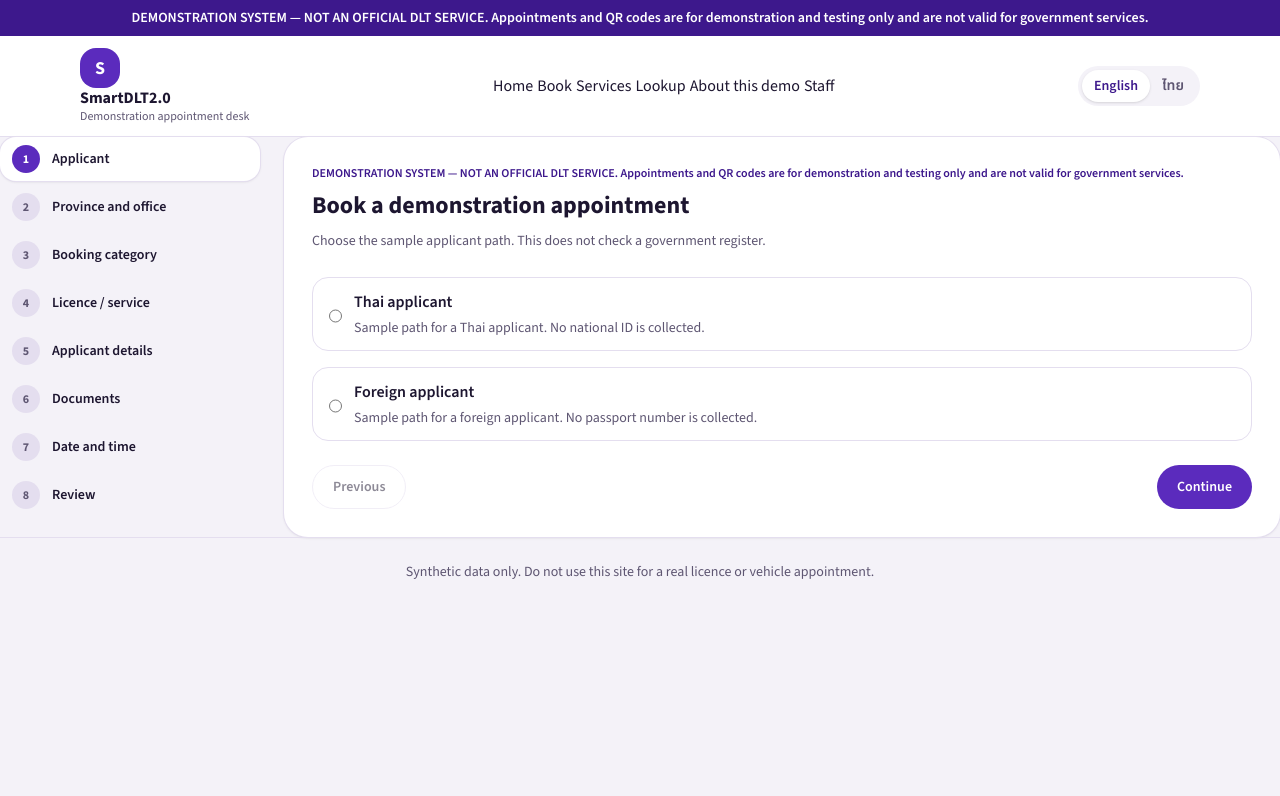
Test case: wizard navigation › hides the permit category at an office that is not eligible
Click the radio button labelled "Thai applicant": point(336, 316) [329,294,342,338]
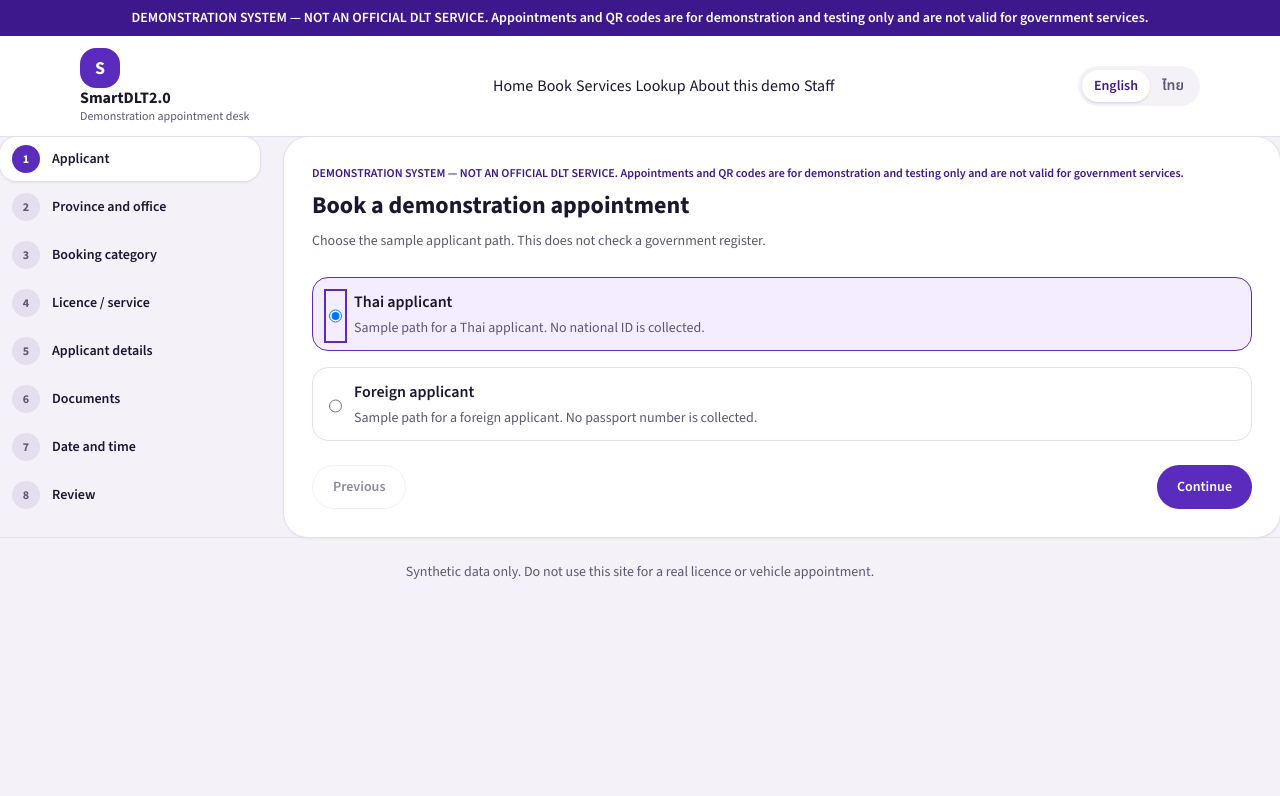
Click the button "Continue": point(1204, 487) [1157,465,1252,509]
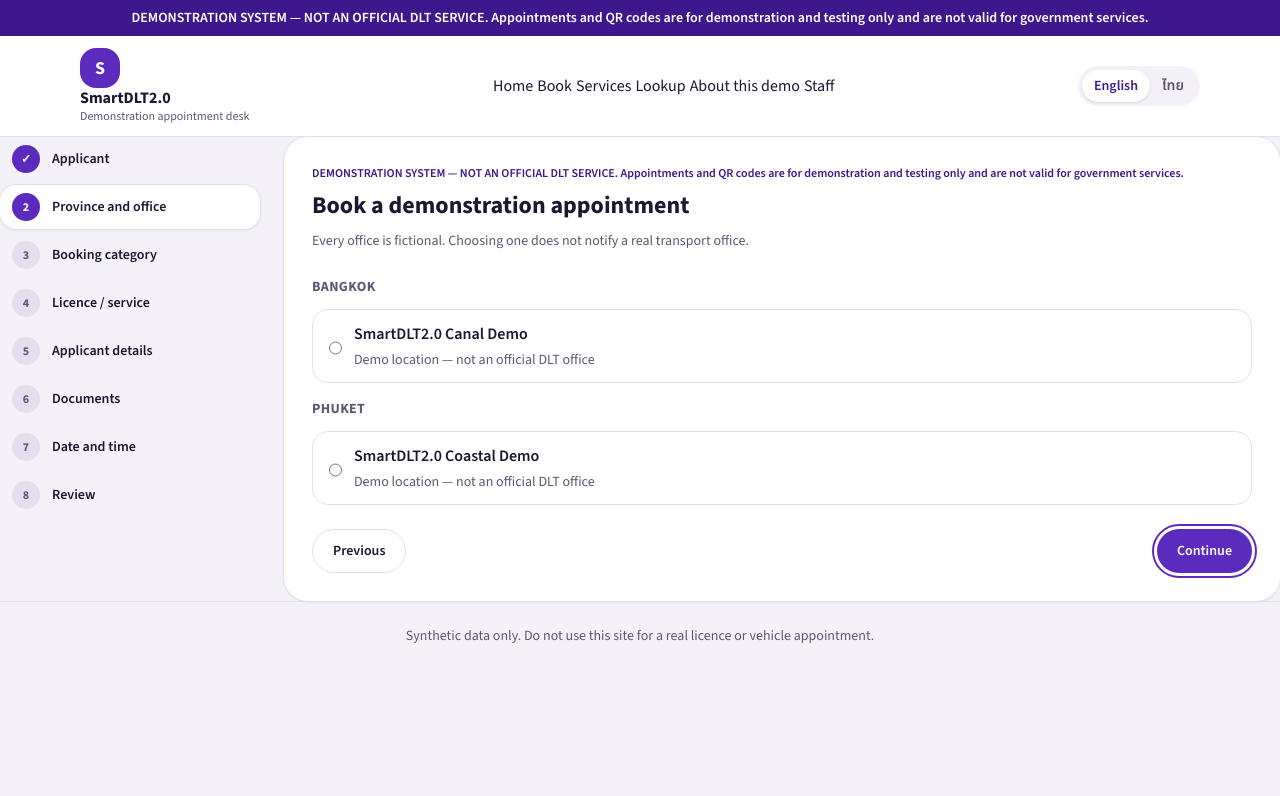
Click the radio button labelled "Coastal Demo": point(336, 470) [329,448,342,492]
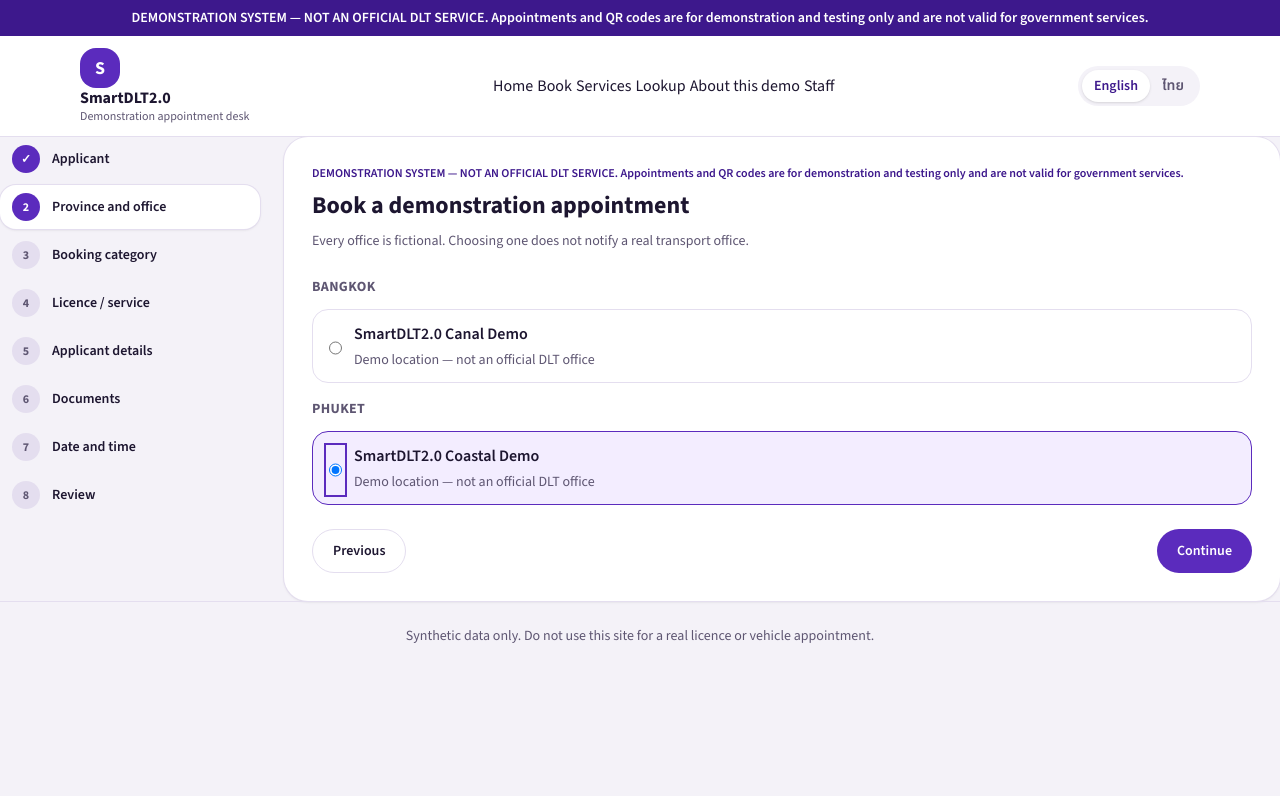
Click the button "Continue": point(1204, 551) [1157,529,1252,573]
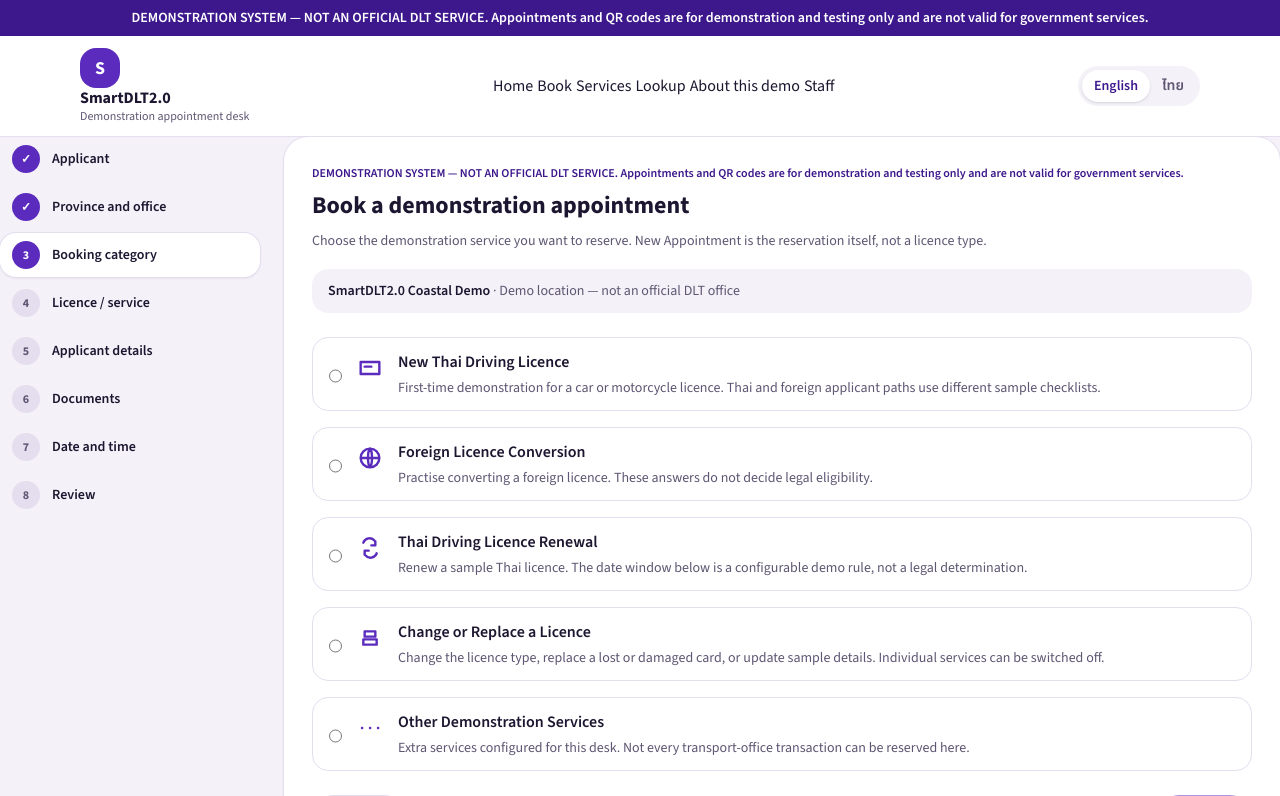
Result: the radio button labelled "New Thai Driving Licence" is shown at [329,354,342,398]
